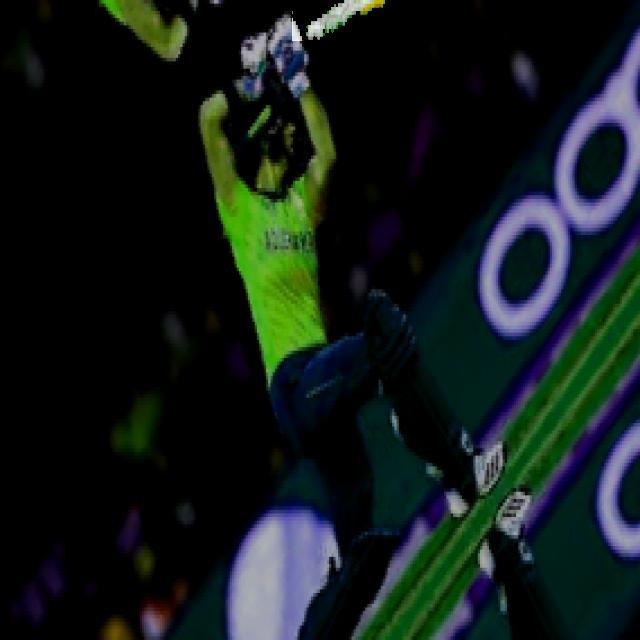bat: (300, 0, 391, 44)
